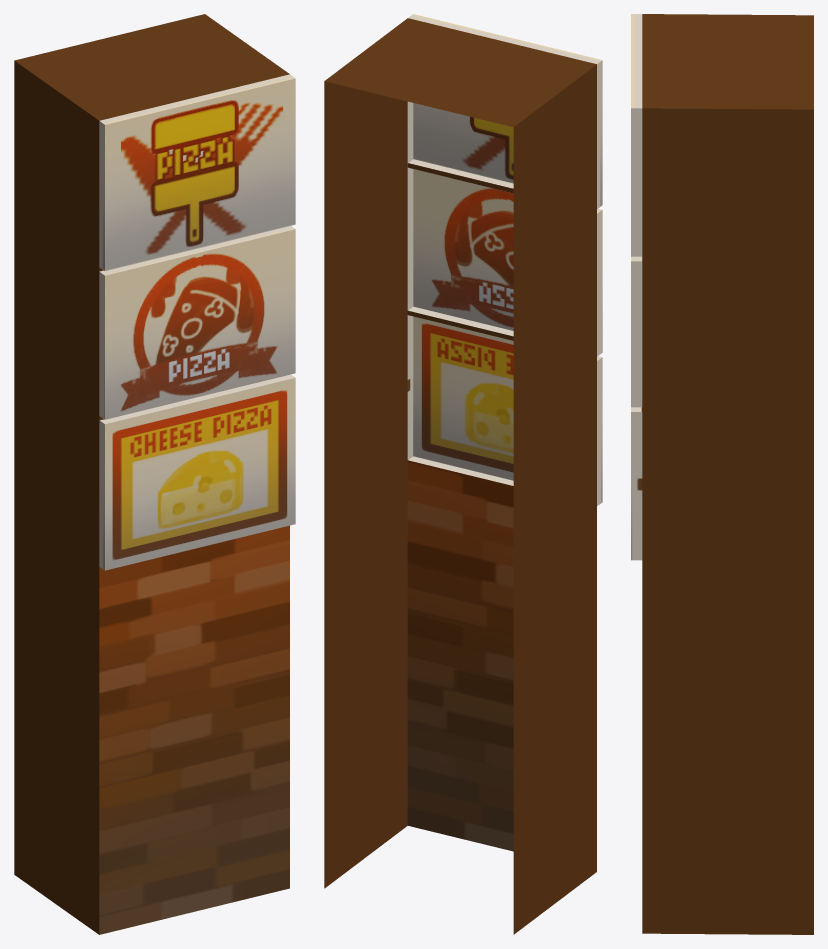
File: Background_Stage5_Hasira.fbx
3 renders of one model, left to right at view 1: azimuth 30°, elevation 25°; view 2: azimuth 150°, elevation 25°; view 3: azimuth 270°, elevation 25°, orthographic. The views are drawn at different scales.
Visible parts, largest first — view 1: Background_Stage5_Hasira; view 2: Background_Stage5_Hasira; view 3: Background_Stage5_Hasira.
Part boxes in pixels (x1=…): Background_Stage5_Hasira: x1=14, y1=14, x2=295, y2=934; Background_Stage5_Hasira: x1=324, y1=14, x2=602, y2=934; Background_Stage5_Hasira: x1=631, y1=14, x2=813, y2=934.
Bounding box in the file's own units: 494 × 2012 × 404.
